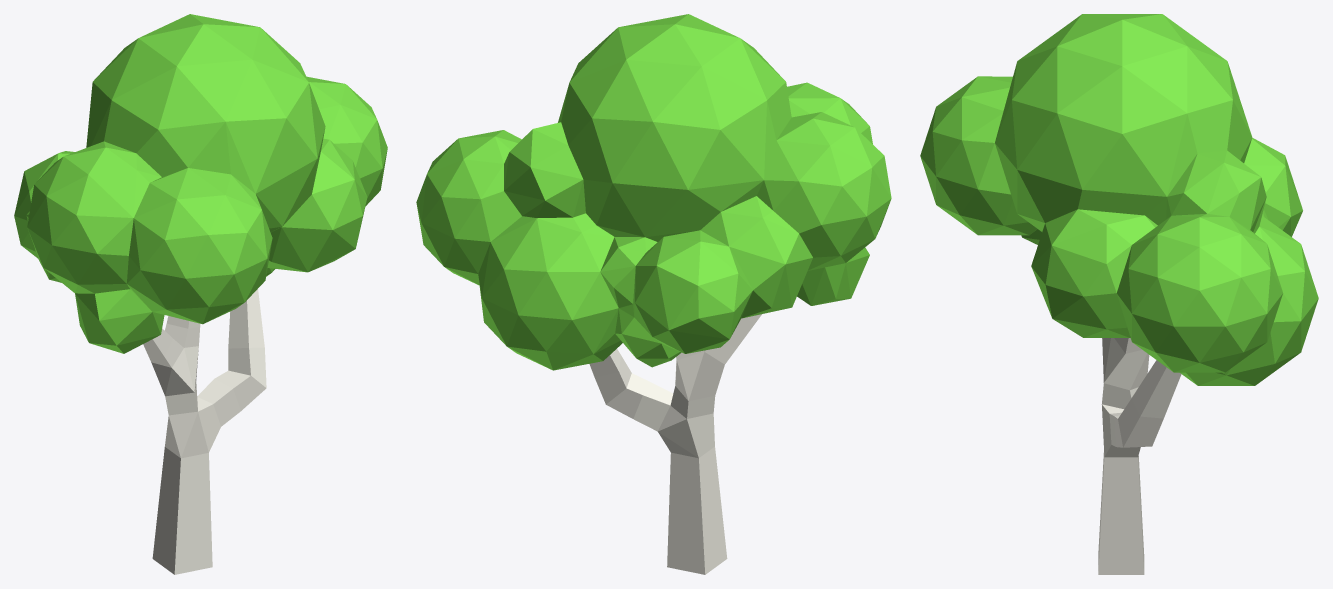
File: kesa_koivu1.fbx
3 renders of one model, left to right at view 1: azimuth 30°, elevation 25°; view 2: azimuth 150°, elevation 25°; view 3: azimuth 270°, elevation 25°, orthographic. The views are drawn at different scales.
Parts seen in each view (by area): view 1: Icosphere, Cube; view 2: Icosphere, Cube; view 3: Icosphere, Cube.
Part boxes in pixels (box(x1,y1,x2,y2)): Icosphere: box(14, 14, 387, 353); Cube: box(143, 289, 266, 574); Icosphere: box(416, 14, 891, 370); Cube: box(589, 314, 761, 574); Icosphere: box(920, 14, 1318, 385); Cube: box(1098, 338, 1181, 574).
Bounding box in the file's own units: 795 × 1033 × 671.
